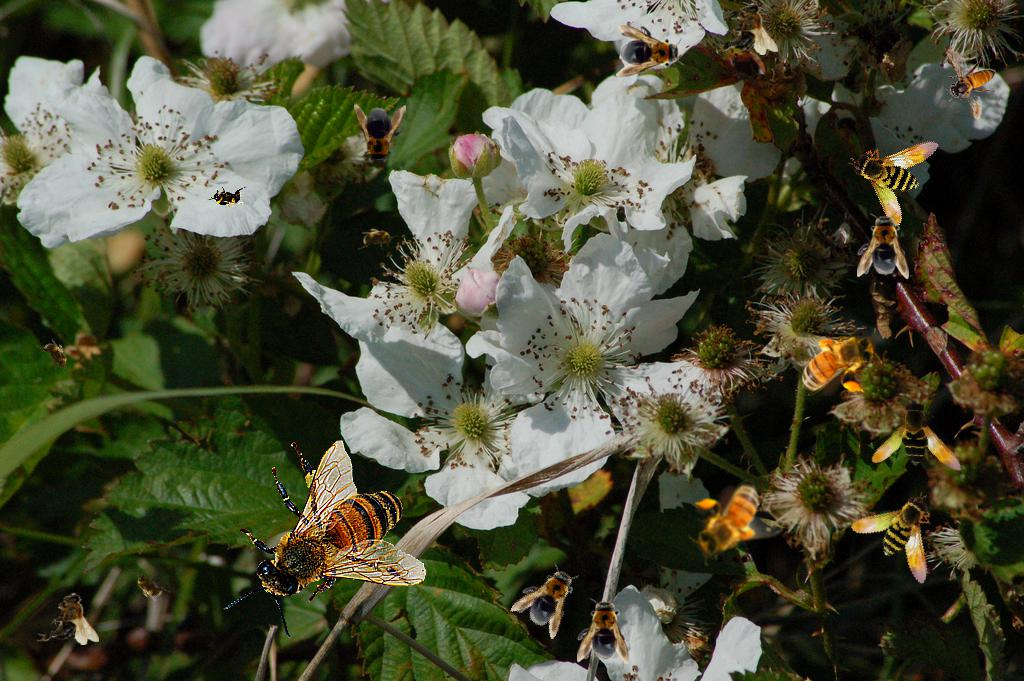Bee: (223, 440, 427, 639), (862, 391, 982, 511), (846, 116, 964, 232), (847, 490, 953, 600), (676, 472, 788, 569), (508, 554, 590, 640), (789, 328, 882, 396), (946, 49, 996, 120), (354, 102, 406, 170), (616, 25, 684, 77), (857, 211, 909, 279), (577, 596, 629, 664), (37, 592, 99, 645), (716, 2, 778, 55), (127, 562, 171, 608), (35, 333, 77, 379), (358, 228, 398, 250), (207, 186, 247, 208)
